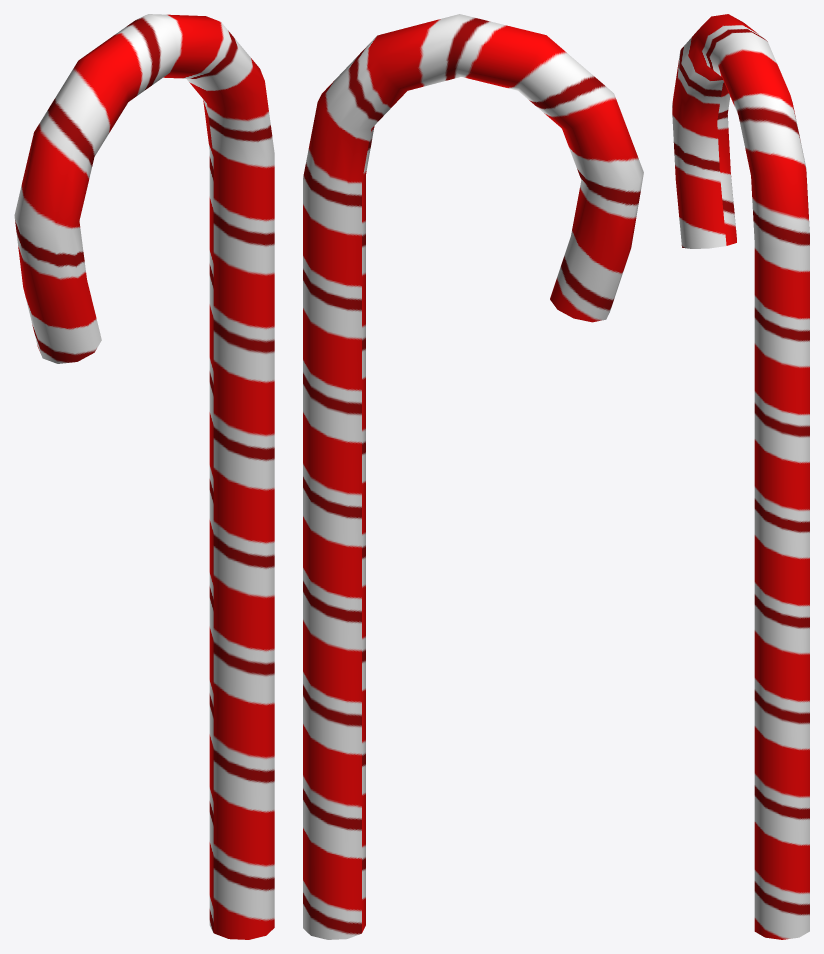
The model's file is candycane red strippes.fbx.
3 renders of one model, left to right at view 1: azimuth 30°, elevation 25°; view 2: azimuth 150°, elevation 25°; view 3: azimuth 270°, elevation 25°, orthographic. The views are drawn at different scales.
Parts seen in each view (by area): view 1: candycane_red_strippes; view 2: candycane_red_strippes; view 3: candycane_red_strippes.
Part boxes in pixels (<box>): candycane_red_strippes: <box>14,14,274,939</box>; candycane_red_strippes: <box>303,14,643,939</box>; candycane_red_strippes: <box>672,14,809,939</box>.
Bounding box in the file's own units: 4.96 × 15.13 × 2.23.
1 material, 1 textured.
